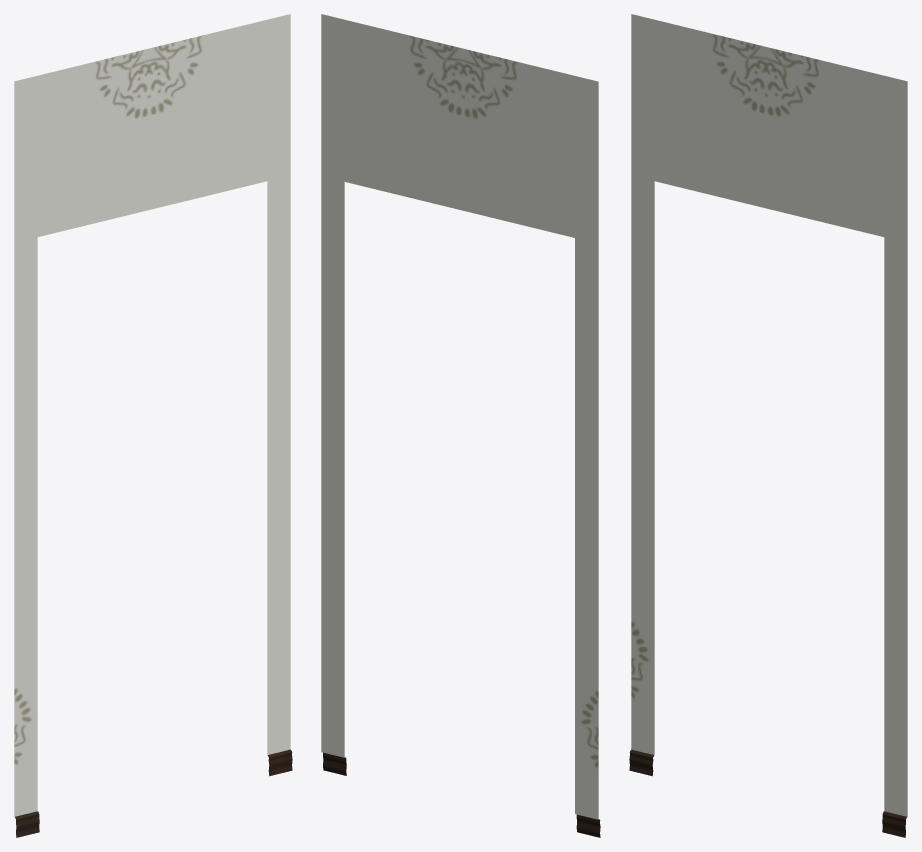
File: House_ModulesDOOR.fbx
3 renders of one model, left to right at view 1: azimuth 30°, elevation 25°; view 2: azimuth 150°, elevation 25°; view 3: azimuth 330°, elevation 25°, orthographic.
Parts seen in each view (by area): view 1: Wall_Door; view 2: Wall_Door; view 3: Wall_Door.
Part boxes in pixels (<box>): Wall_Door: <box>14,14,292,837</box>; Wall_Door: <box>321,14,600,837</box>; Wall_Door: <box>629,14,907,837</box>.
Bounding box in the file's own units: 1.34 × 3.5 × 0.0169.
